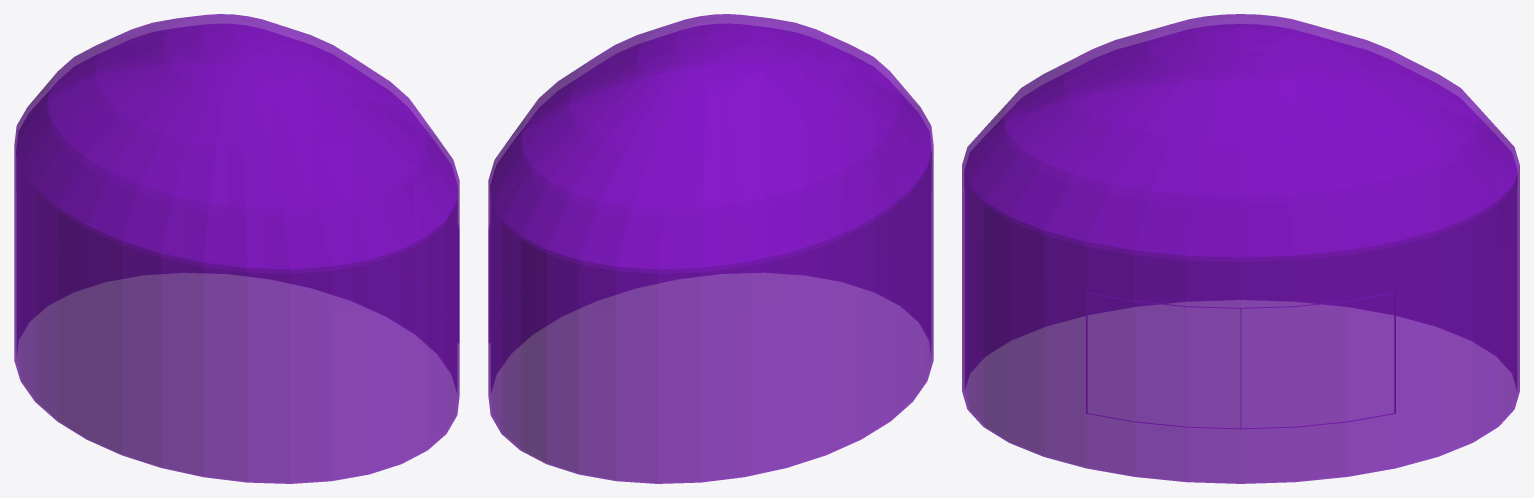
File: Animation-FinTuyauAscenseur.fbx
The picture shows the model from 3 angles, left to right: view 1: azimuth 30°, elevation 25°; view 2: azimuth 150°, elevation 25°; view 3: azimuth 270°, elevation 25°; orthographic projection. The views are drawn at different scales.
Visible parts, largest first — view 1: TubeAscenseur, PorteDroite, PorteGauche; view 2: TubeAscenseur, PorteGauche, PorteDroite; view 3: TubeAscenseur, PorteGauche, PorteDroite.
Part boxes in pixels (left/top/right/bottom): TubeAscenseur: left=14, top=14, right=459, bottom=483; PorteDroite: left=312, top=123, right=413, bottom=281; PorteGauche: left=416, top=171, right=459, bottom=342; TubeAscenseur: left=488, top=14, right=933, bottom=483; PorteGauche: left=534, top=123, right=635, bottom=281; PorteDroite: left=488, top=171, right=531, bottom=342; TubeAscenseur: left=962, top=14, right=1519, bottom=483; PorteGauche: left=1086, top=293, right=1240, bottom=429; PorteDroite: left=1241, top=293, right=1395, bottom=429.
Bounding box in the file's own units: 800 × 734 × 1020.
